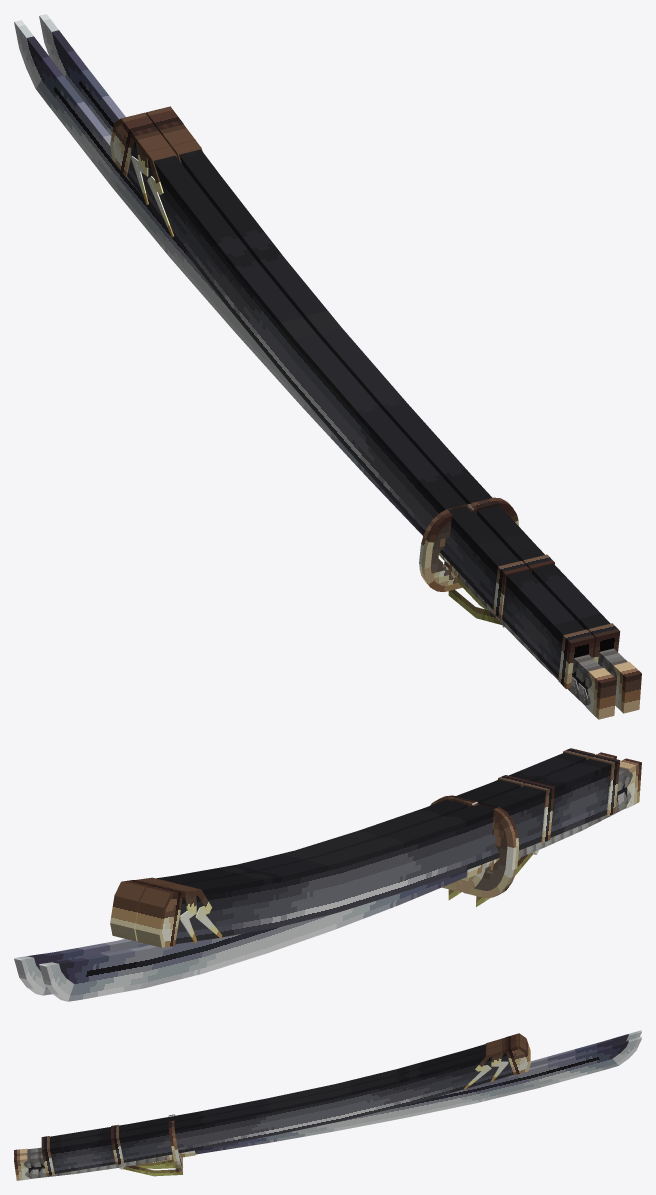
File: yamato_dmc4_in_sheath@mesh2.glb
The picture shows the model from 3 angles, top to bottom: view 1: azimuth 30°, elevation 25°; view 2: azimuth 150°, elevation 25°; view 3: azimuth 270°, elevation 25°; orthographic projection. The views are drawn at different scales.
Parts seen in each view (by area): view 1: main__Tool_L, off__Tool_R, off__Tool_L, main__Tool_R; view 2: main__Tool_L, off__Tool_L, off__Tool_R, main__Tool_R; view 3: off__Tool_R, main__Tool_R, main__Tool_L, off__Tool_L.
Part boxes in pixels (x1,y1,x2,y2): main__Tool_L: (110, 112, 594, 688); off__Tool_R: (145, 106, 620, 662); off__Tool_L: (14, 20, 616, 719); main__Tool_R: (39, 14, 641, 713); main__Tool_L: (135, 754, 620, 947); off__Tool_L: (39, 758, 641, 1001); off__Tool_R: (110, 748, 594, 941); main__Tool_R: (14, 752, 616, 995); off__Tool_R: (41, 1040, 530, 1176); main__Tool_R: (14, 1036, 641, 1180); main__Tool_L: (41, 1033, 530, 1169); off__Tool_L: (14, 1030, 641, 1164).
Bounding box in the file's own units: 0.2058 × 0.5637 × 2.27.
Materials: 1 (1 with a texture image).
